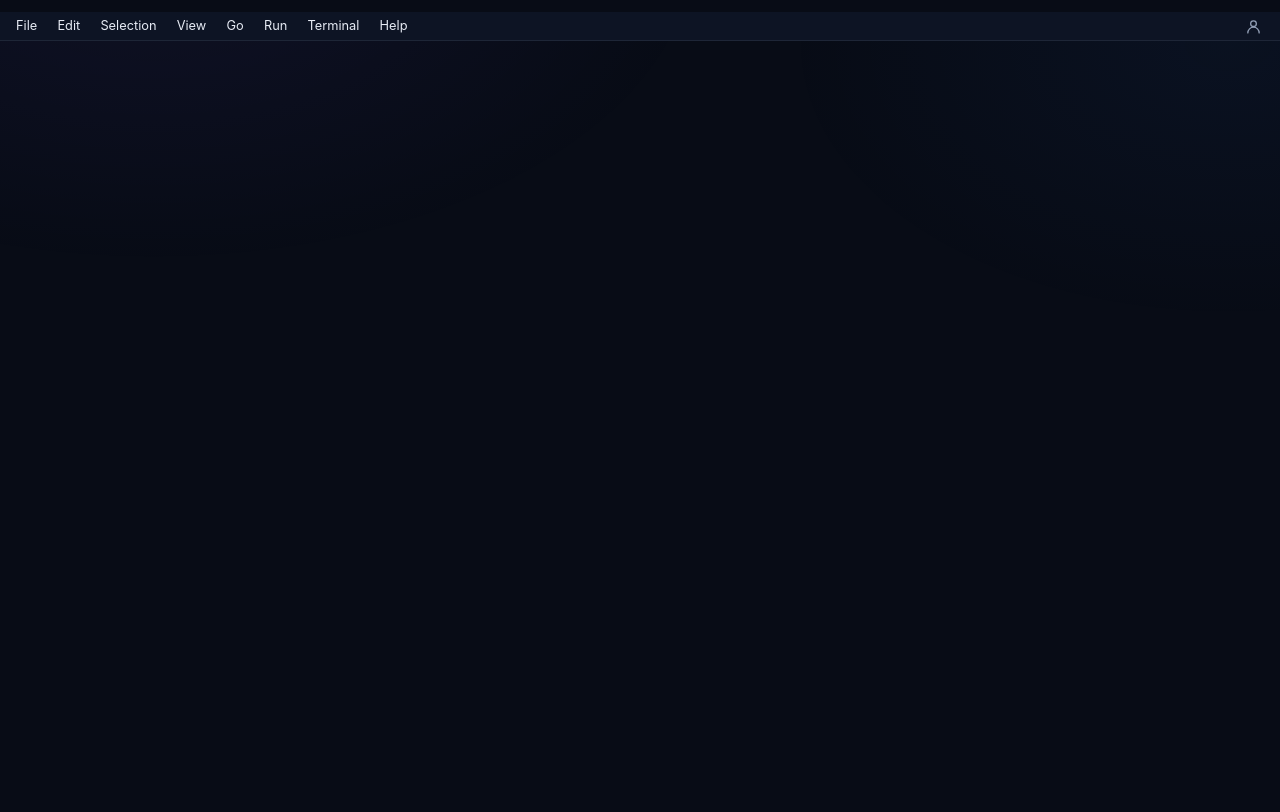
Test case: MenuBar › opens a dropdown and runs the selected command
This screenshot has width=1280, height=812.
What coordinates should you click on to do the following:
click the menu item "File"
I would click on:
 (27, 26)
Its box is x1=6 y1=13 x2=47 y2=39.
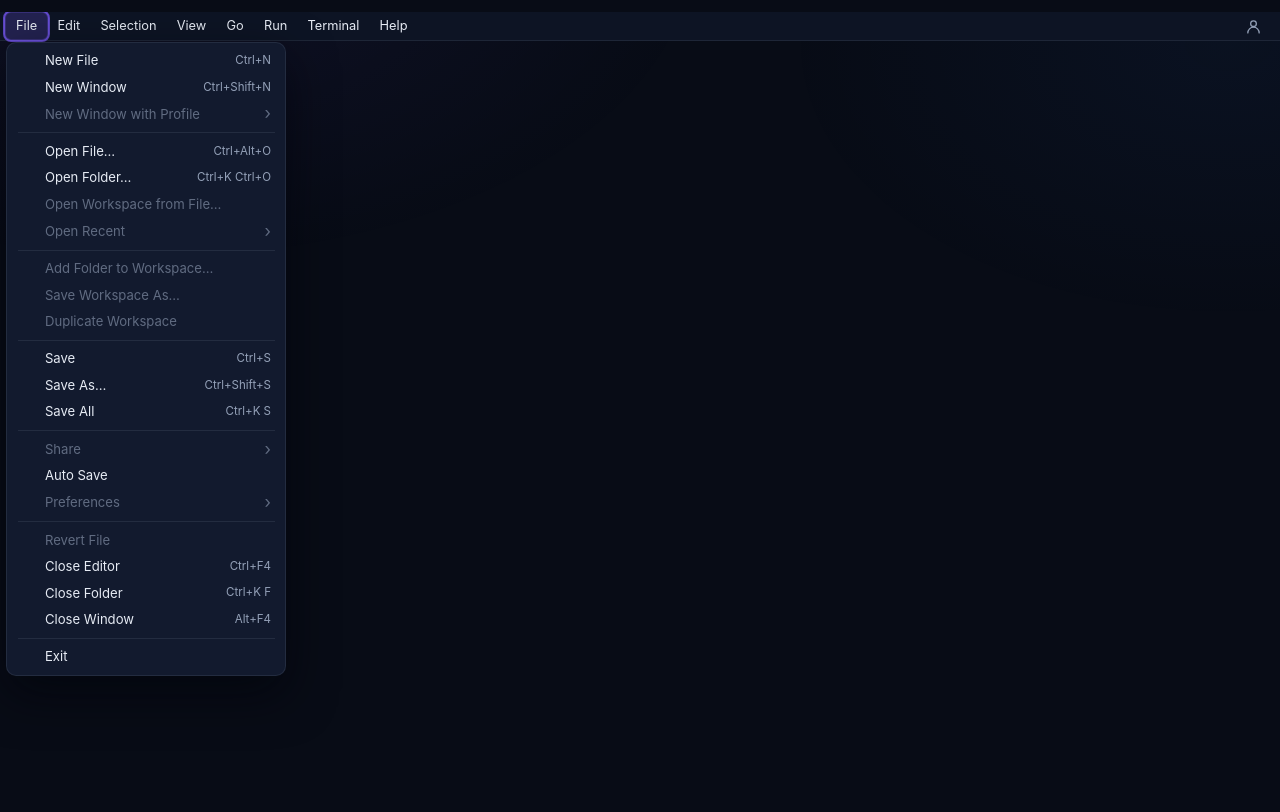
What coordinates should you click on to do the following:
click the menu item "Save As… Ctrl+Shift+S"
I would click on:
 (76, 385)
Its box is x1=12 y1=372 x2=281 y2=399.
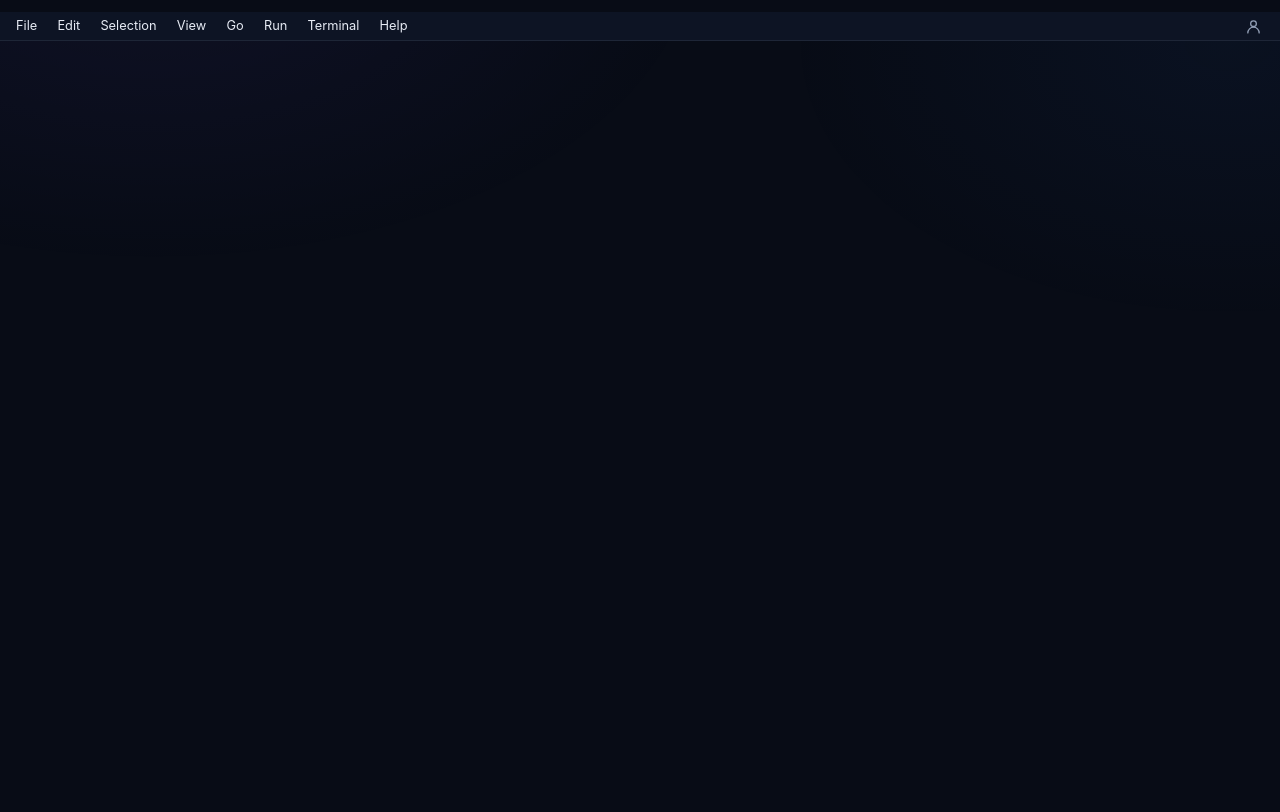
Expected: the menu is gone
